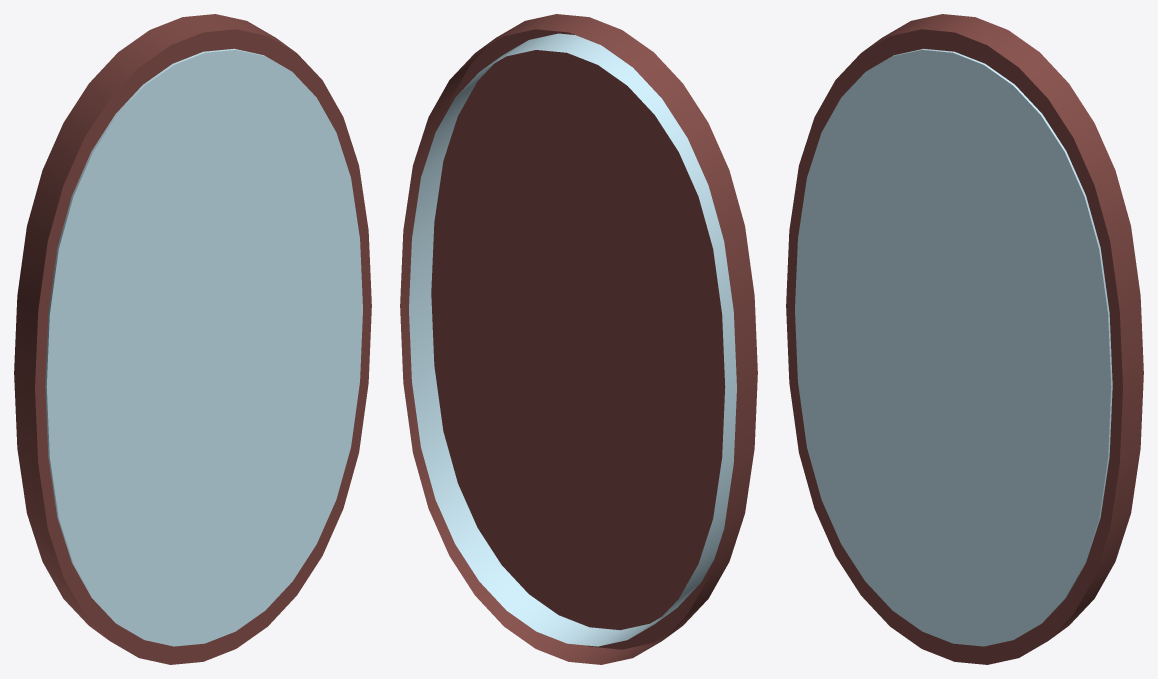
File: mirror.fbx
3 views of the same model, side by side, from view 1: azimuth 30°, elevation 25°; view 2: azimuth 150°, elevation 25°; view 3: azimuth 330°, elevation 25° (orthographic).
Visible parts, largest first — view 1: mirror; view 2: mirror; view 3: mirror.
Boxes of the visible parts, x1,y1,x2,y2 form: mirror: [14, 14, 371, 664]; mirror: [400, 14, 757, 664]; mirror: [786, 14, 1143, 664].
Size of the model in its own units: 40.89 by 72.98 by 5.02.
